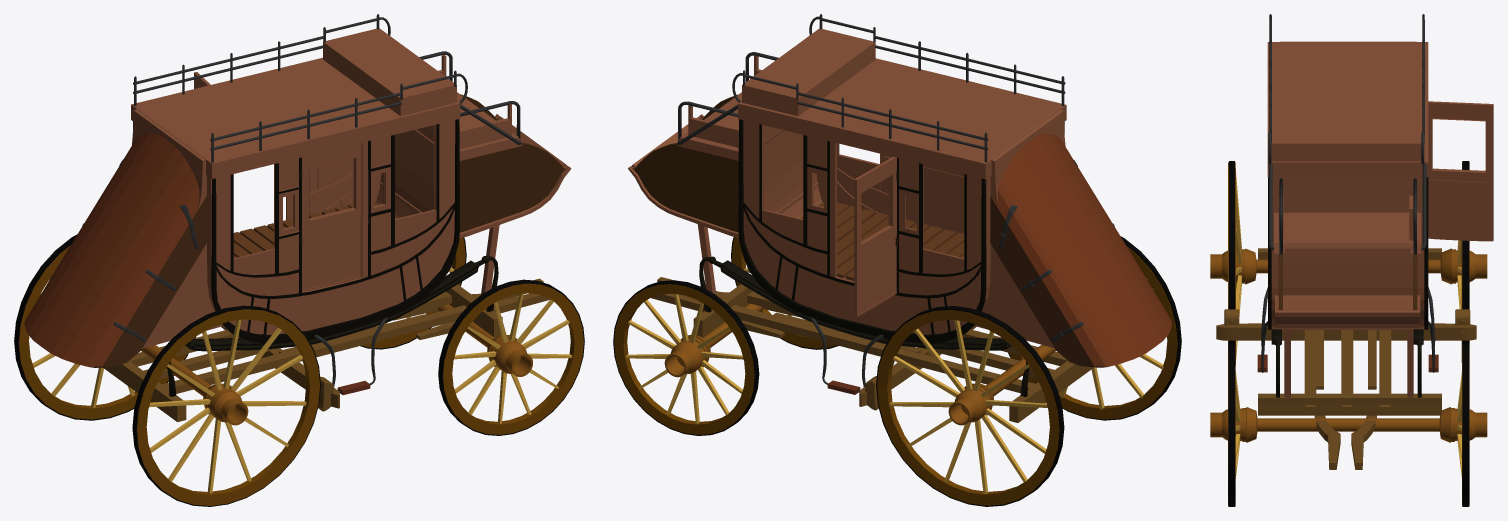
Rendered from Carroza.fbx.
3 renders of one model, left to right at view 1: azimuth 30°, elevation 25°; view 2: azimuth 150°, elevation 25°; view 3: azimuth 270°, elevation 25°, orthographic.
Parts seen in each view (by area): view 1: Cube.062, Cube.039, Cube.057, Cylinder.023, Cube.059, Cube.054, Cube.015, Cylinder.020, Cube.063, Cylinder.032, Cube.042, Cube.014 (+19 smaller); view 2: Cube.062, Cube.039, Cube.057, Cylinder.017, Cube.059, Cube.054, Cylinder.030, Cube.016, Cylinder.018, Cube.042, Cube.038, Cube.014 (+21 smaller); view 3: Cube.062, Cube.059, Cube.057, Cube.016, Cube.048, Cube.058, Cylinder.010, Cylinder.014, Cylinder.009, Cylinder.016, Cylinder.015, Cube.041 (+18 smaller).
Part boxes in pixels (x1,y1,x2,y2): Cube.062: [131, 57, 460, 334]; Cube.039: [24, 132, 203, 366]; Cube.057: [103, 284, 502, 422]; Cylinder.023: [136, 309, 319, 505]; Cube.059: [323, 28, 456, 116]; Cube.054: [459, 94, 567, 232]; Cube.015: [302, 143, 361, 291]; Cylinder.020: [443, 283, 583, 434]; Cube.063: [216, 124, 455, 334]; Cylinder.032: [149, 319, 306, 493]; Cube.042: [132, 108, 221, 348]; Cube.014: [86, 196, 206, 367]; Cube.062: [738, 58, 1066, 334]; Cube.039: [993, 133, 1171, 366]; Cube.057: [693, 284, 1093, 422]; Cylinder.017: [877, 309, 1059, 505]; Cube.059: [742, 28, 875, 116]; Cube.054: [633, 94, 738, 232]; Cylinder.030: [614, 284, 754, 434]; Cube.016: [854, 157, 896, 316]; Cylinder.018: [889, 320, 1047, 493]; Cube.042: [975, 108, 1083, 348]; Cube.038: [743, 124, 981, 334]; Cube.014: [990, 196, 1109, 367]; Cube.062: [1267, 42, 1428, 329]; Cube.059: [1271, 116, 1422, 161]; Cube.057: [1258, 248, 1441, 415]; Cube.016: [1428, 101, 1493, 241]; Cube.048: [1274, 196, 1421, 253]; Cube.058: [1275, 295, 1420, 329]; Cylinder.010: [1210, 407, 1487, 442]; Cylinder.014: [1216, 309, 1476, 340]; Cylinder.009: [1210, 248, 1487, 284]; Cylinder.016: [1462, 343, 1469, 506]; Cylinder.015: [1228, 343, 1235, 506]; Cube.041: [1351, 330, 1376, 469].
Bounding box in the file's own units: 972 × 658 × 477.
